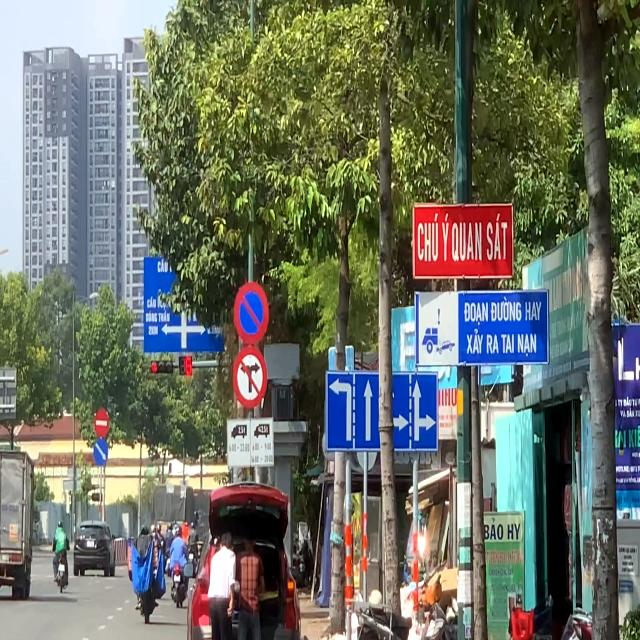P.102: (95, 408, 108, 437)
P.131a: (233, 281, 270, 345)
P.137: (233, 346, 267, 408)
R.302a: (94, 438, 108, 466)
